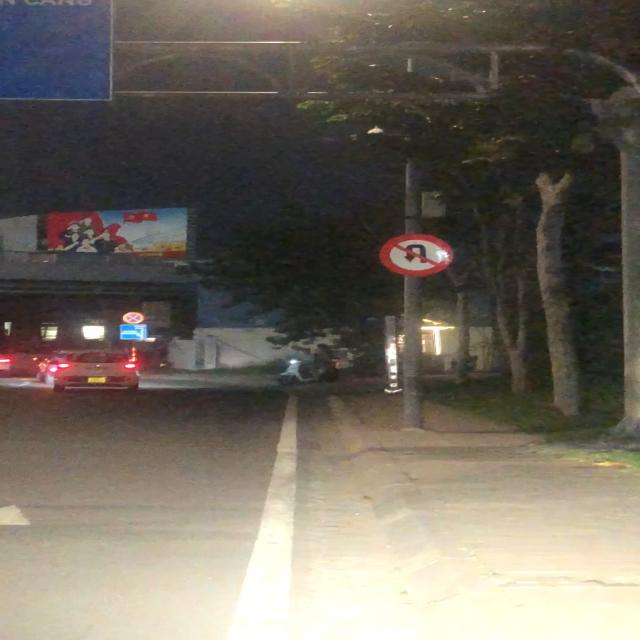Bien bao cam dung xe va do xe: (121, 310, 146, 324)
Bien bao cam quay dau xe: (374, 232, 462, 278)
